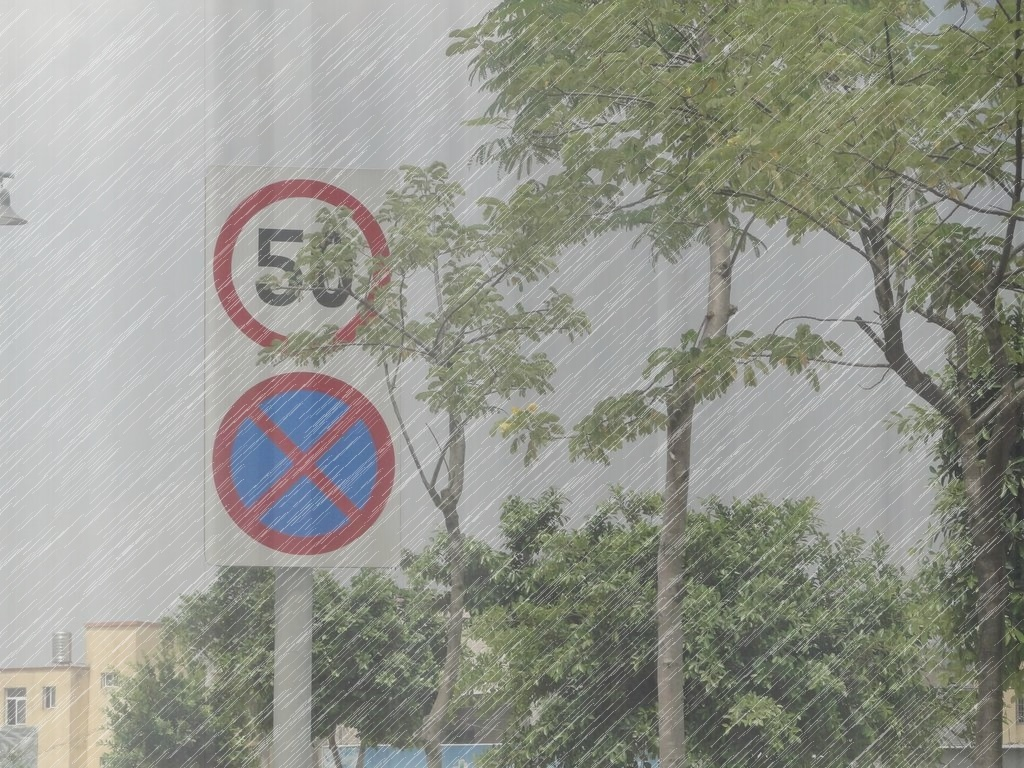Prohibitory Signs: (209, 369, 402, 559), (207, 176, 397, 367)
